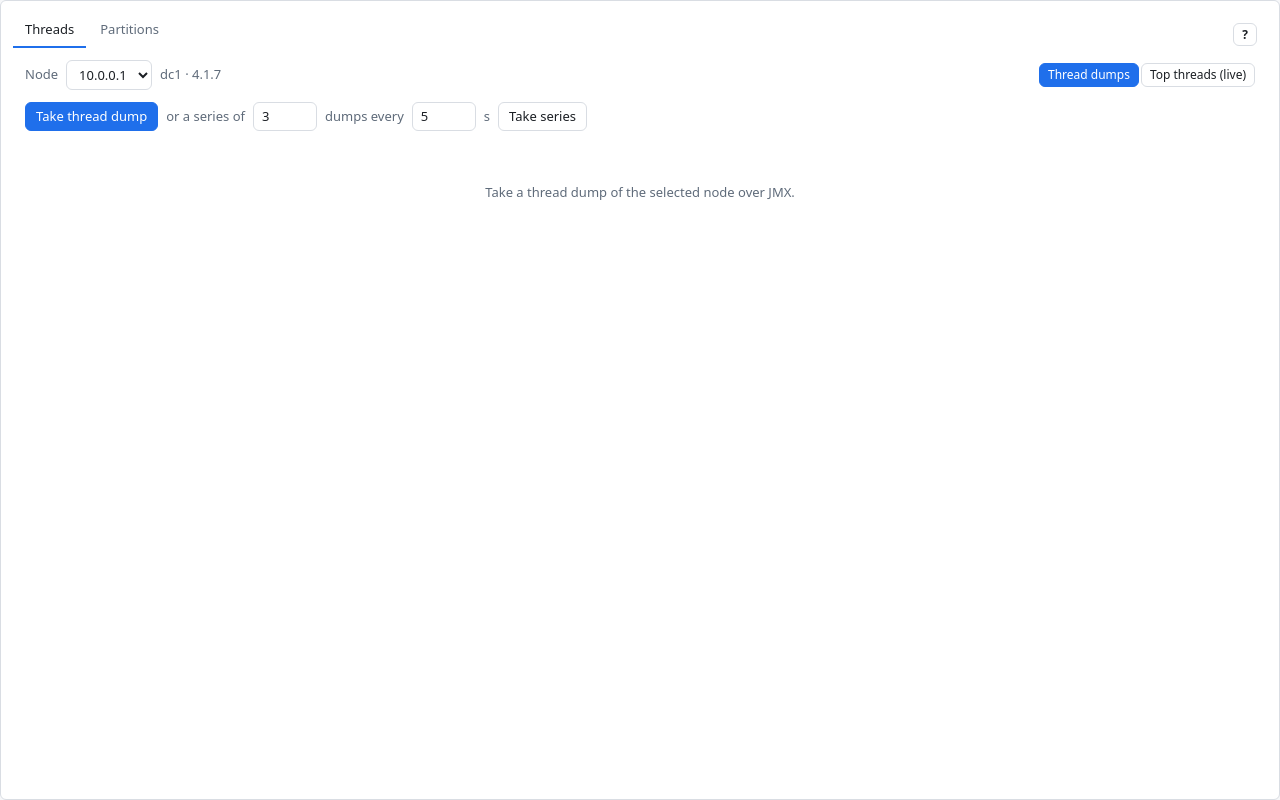
DiagnosticsPanel › takes a dump and highlights the deadlock and blocked threads
The width and height of the screenshot is (1280, 800).
Click the button "Take thread dump".
click(92, 116)  # box [25, 102, 158, 131]
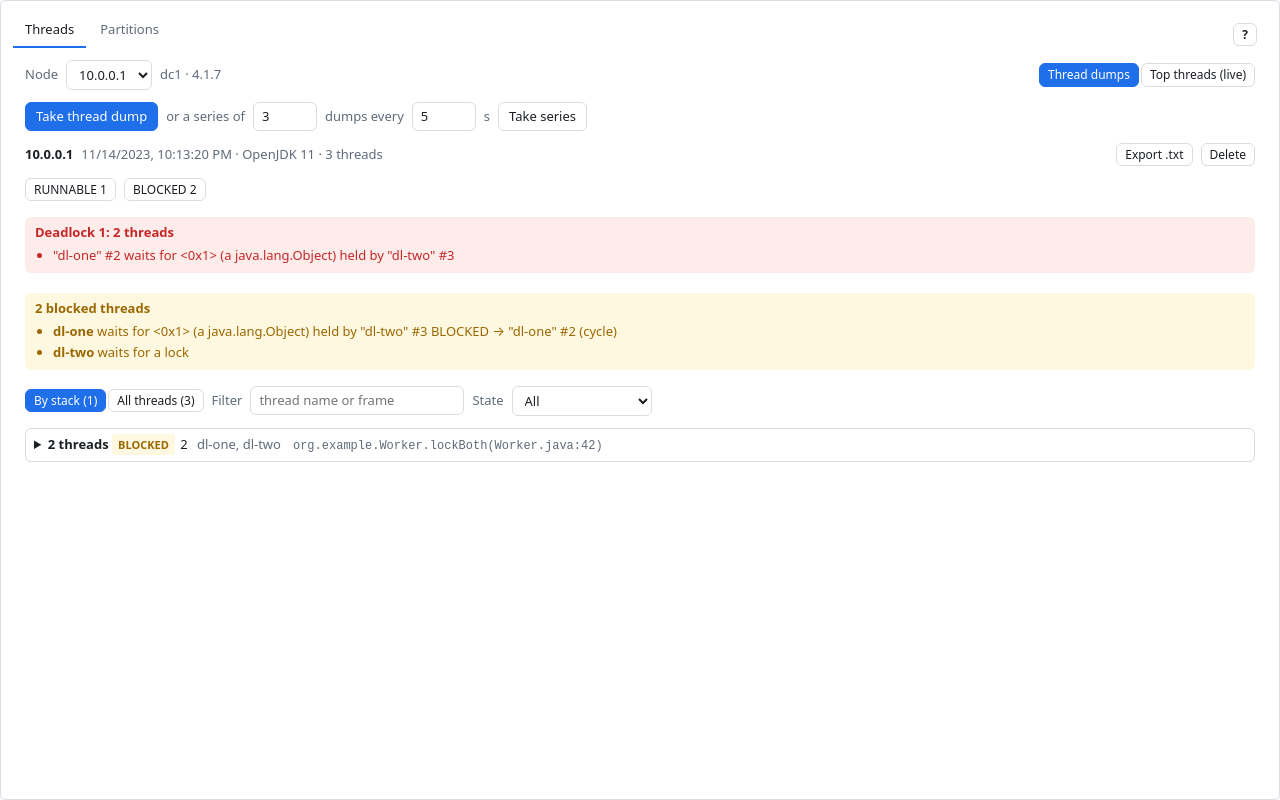
Check: the message with test id "diag-deadlock" shows "held by \"dl-two\"", box [53, 246, 454, 264]
Check: the element with test id "diag-blocked" shows "\"dl-two\" #3 BLOCKED → \"dl-one\" #2 (cycle)", box [360, 322, 617, 340]
Check: the element with test id "diag-dump" shows "org.example.Worker.lockBoth(Worker.java:42)", box [293, 439, 603, 453]
Click the button "All threads (3)".
click(156, 401)  # box [108, 389, 204, 412]
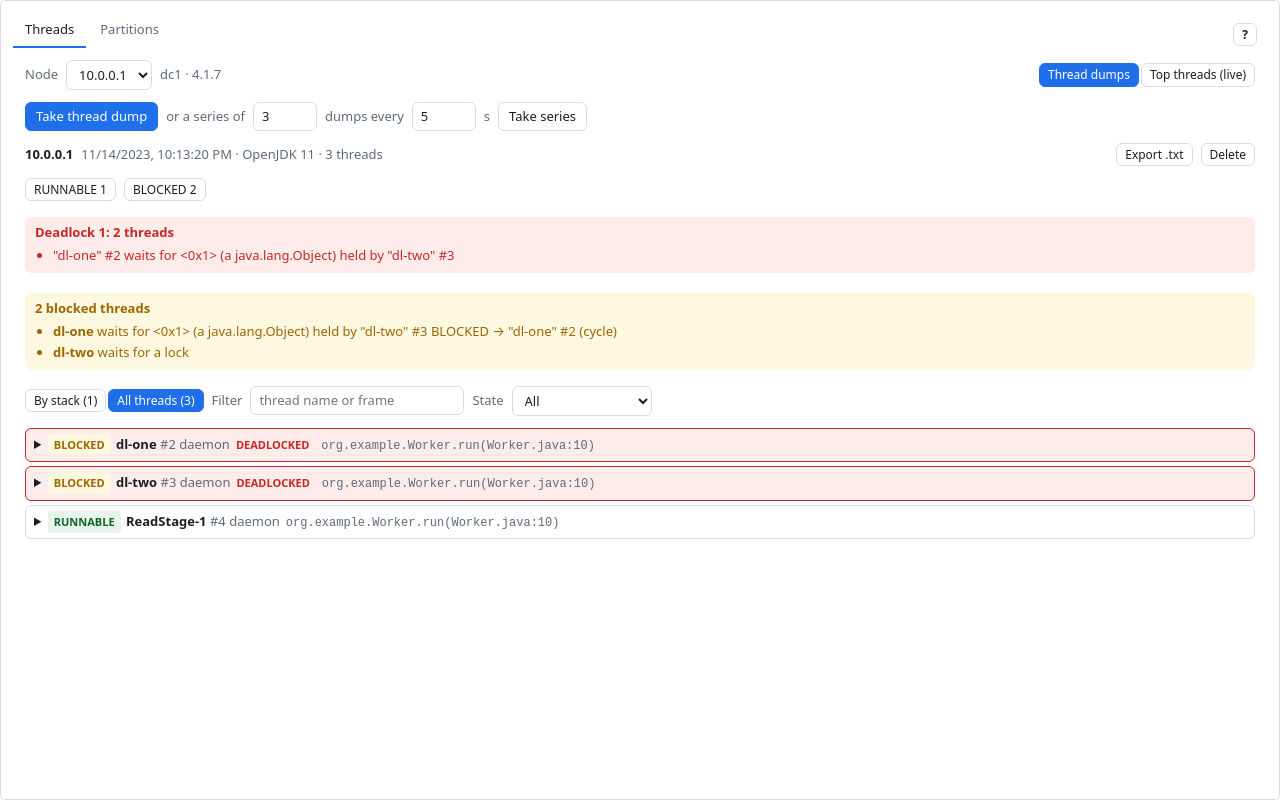
Check: the element with test id "diag-dump" shows "DEADLOCKED", box [236, 437, 309, 452]
Type "ReadStage" into the field named "Filter threads by name or frame".
click(357, 401); type("ReadStage")  # box [250, 386, 464, 415]
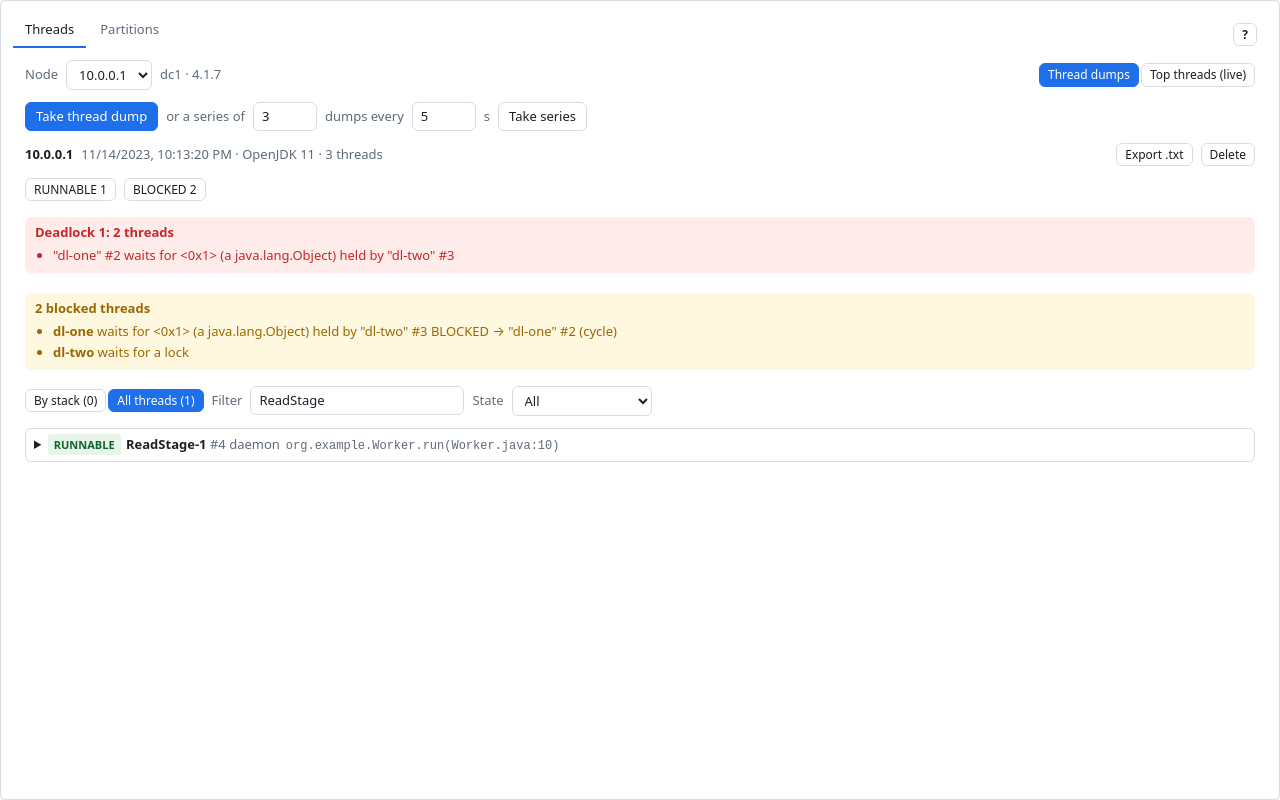
Check: the button "All threads (1)" is shown, box [108, 389, 204, 412]
